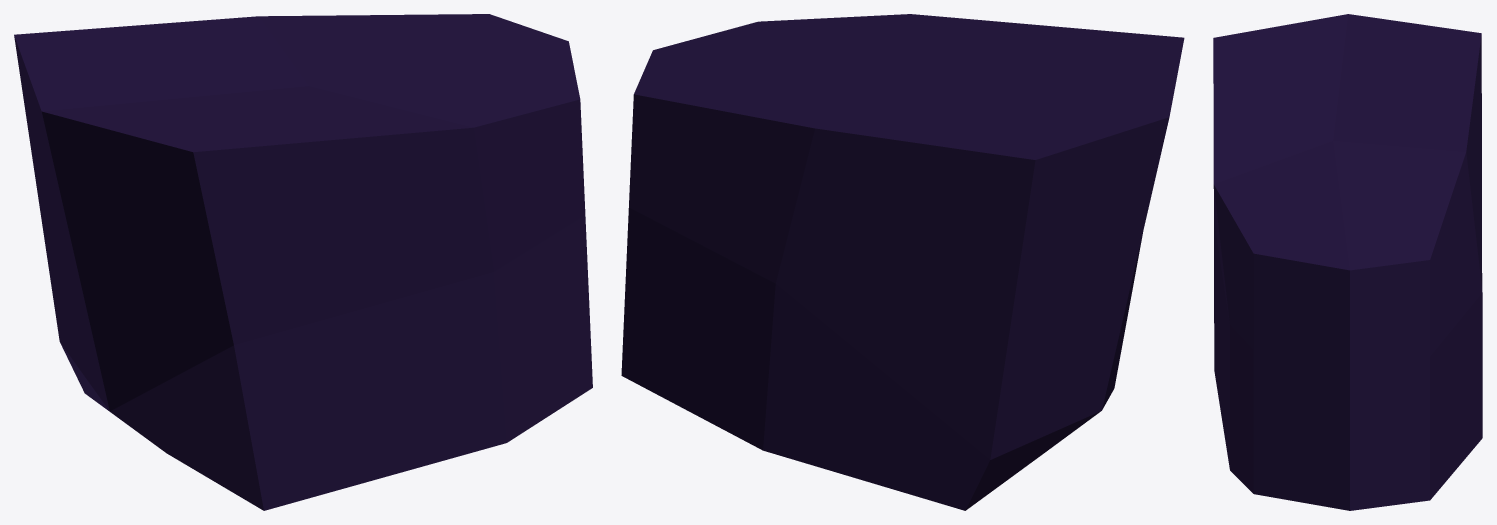
Rendered from stone_003_grp.fbx.
3 renders of one model, left to right at view 1: azimuth 30°, elevation 25°; view 2: azimuth 150°, elevation 25°; view 3: azimuth 270°, elevation 25°, orthographic. The views are drawn at different scales.
Visible parts, largest first — view 1: stone_003_grp; view 2: stone_003_grp; view 3: stone_003_grp.
Part boxes in pixels (x1,y1,x2,y2): stone_003_grp: (14, 14, 592, 510); stone_003_grp: (621, 14, 1184, 510); stone_003_grp: (1213, 14, 1482, 510).
Bounding box in the file's own units: 150 × 100 × 80.
